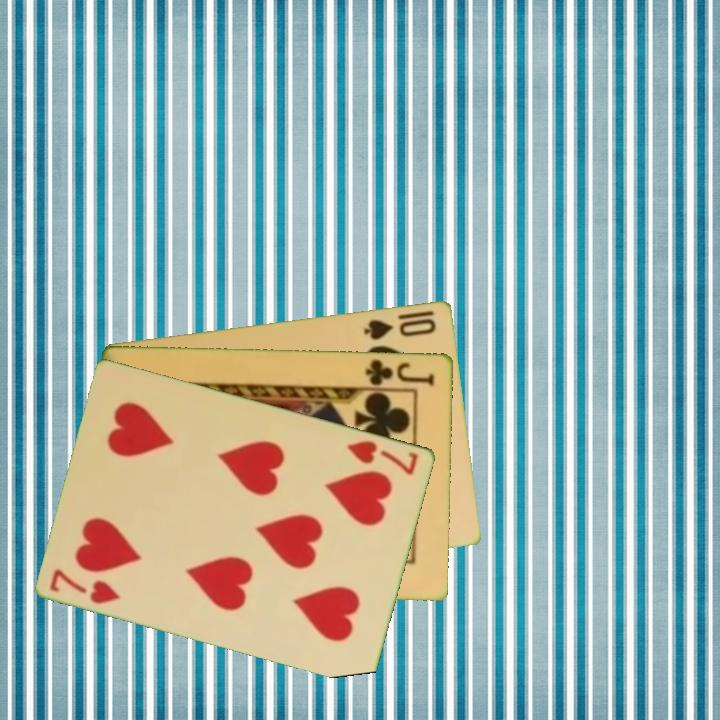10s: (360, 314, 439, 343)
7h: (46, 565, 124, 607), (344, 436, 421, 478)
Jc: (362, 355, 438, 388)
